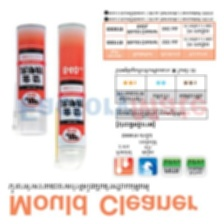aerosol_cans: (51, 22, 88, 172), (10, 22, 50, 137)
